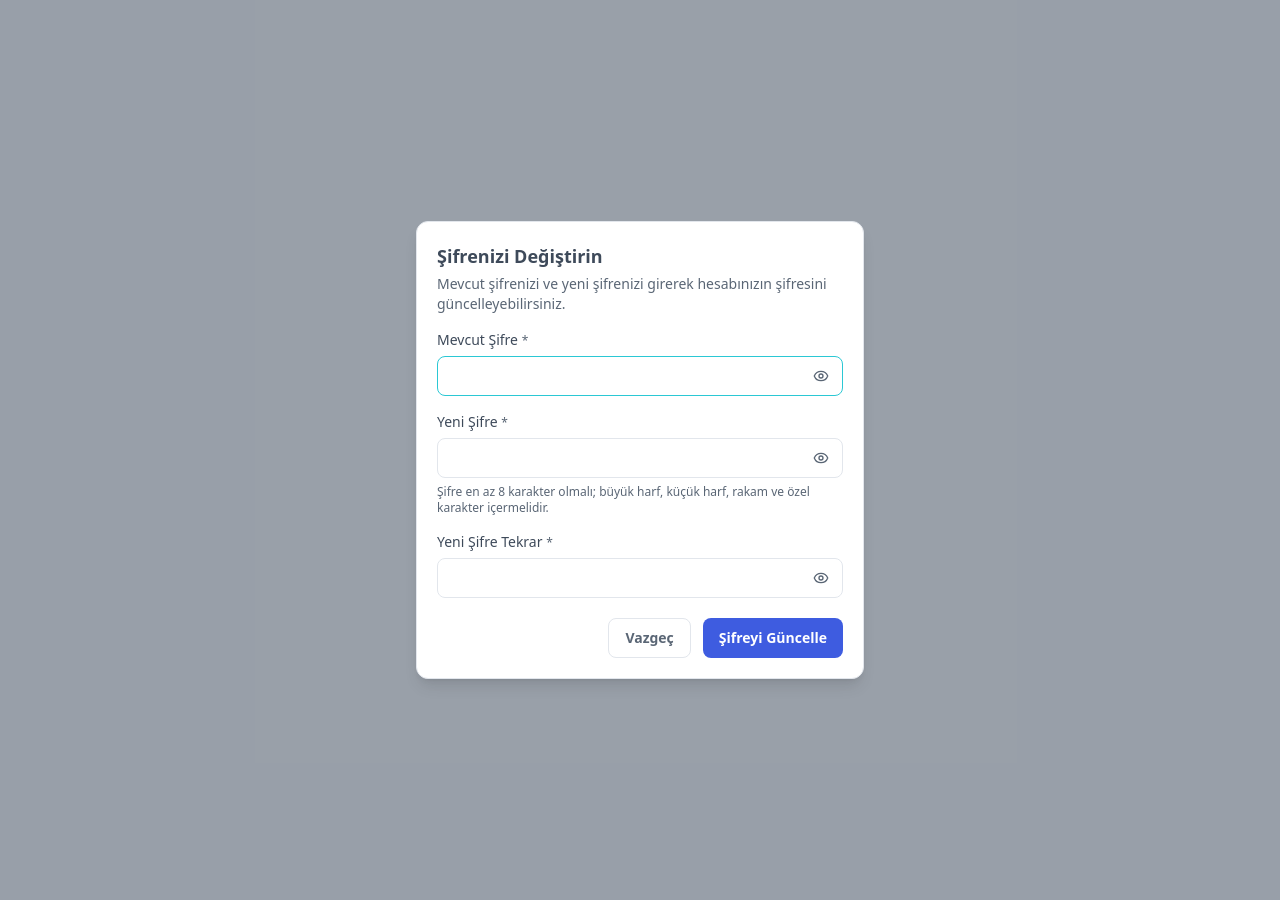
Test: ChangePasswordDialog › sunucu hatasında genel mesaja iner
In the password field labelled "Mevcut Şifre *": (640, 376) [437, 356, 843, 396], type "Eski.Sifre1"
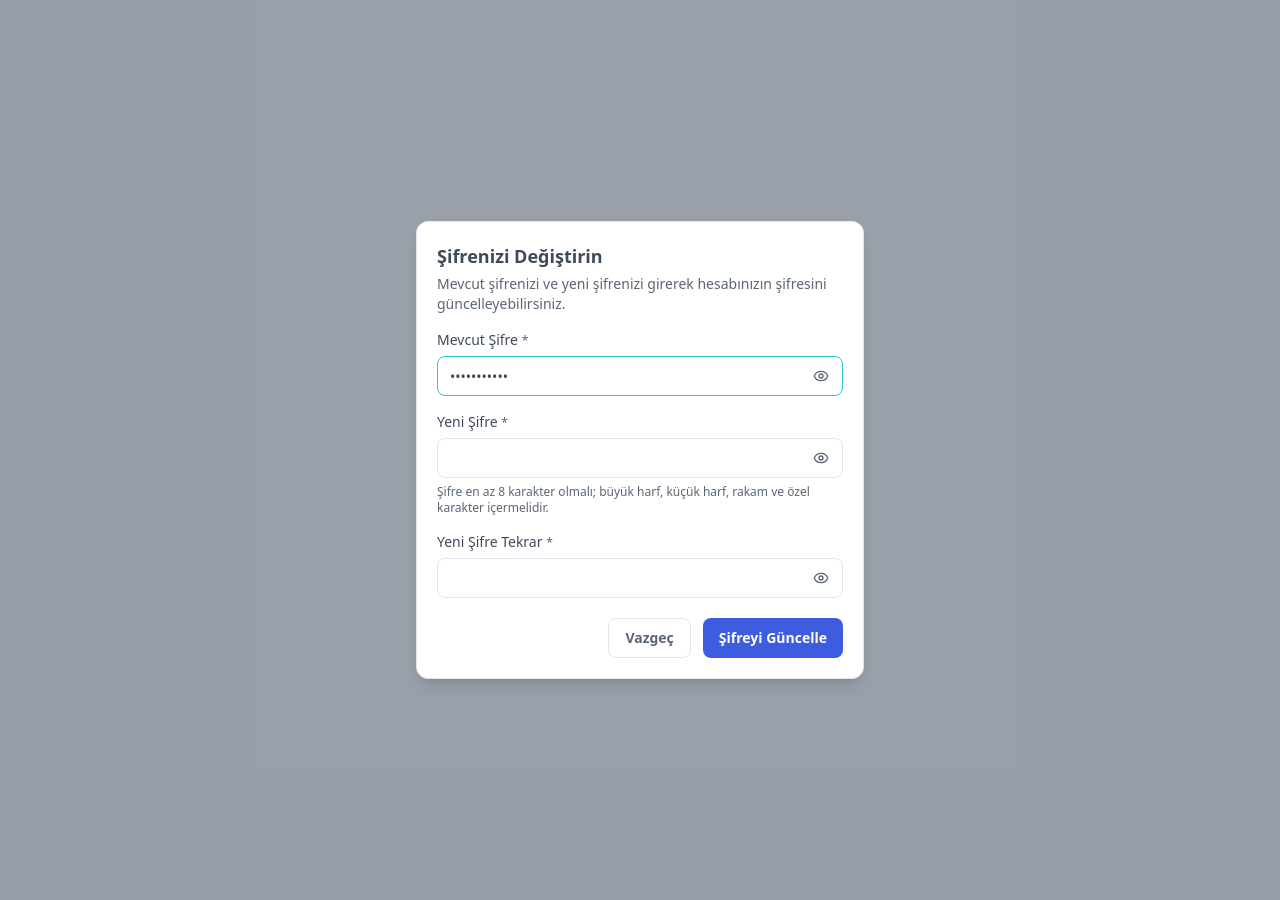
In the password field labelled "Yeni Şifre *": (640, 458) [437, 438, 843, 478], type "Yeni.Sifre1"
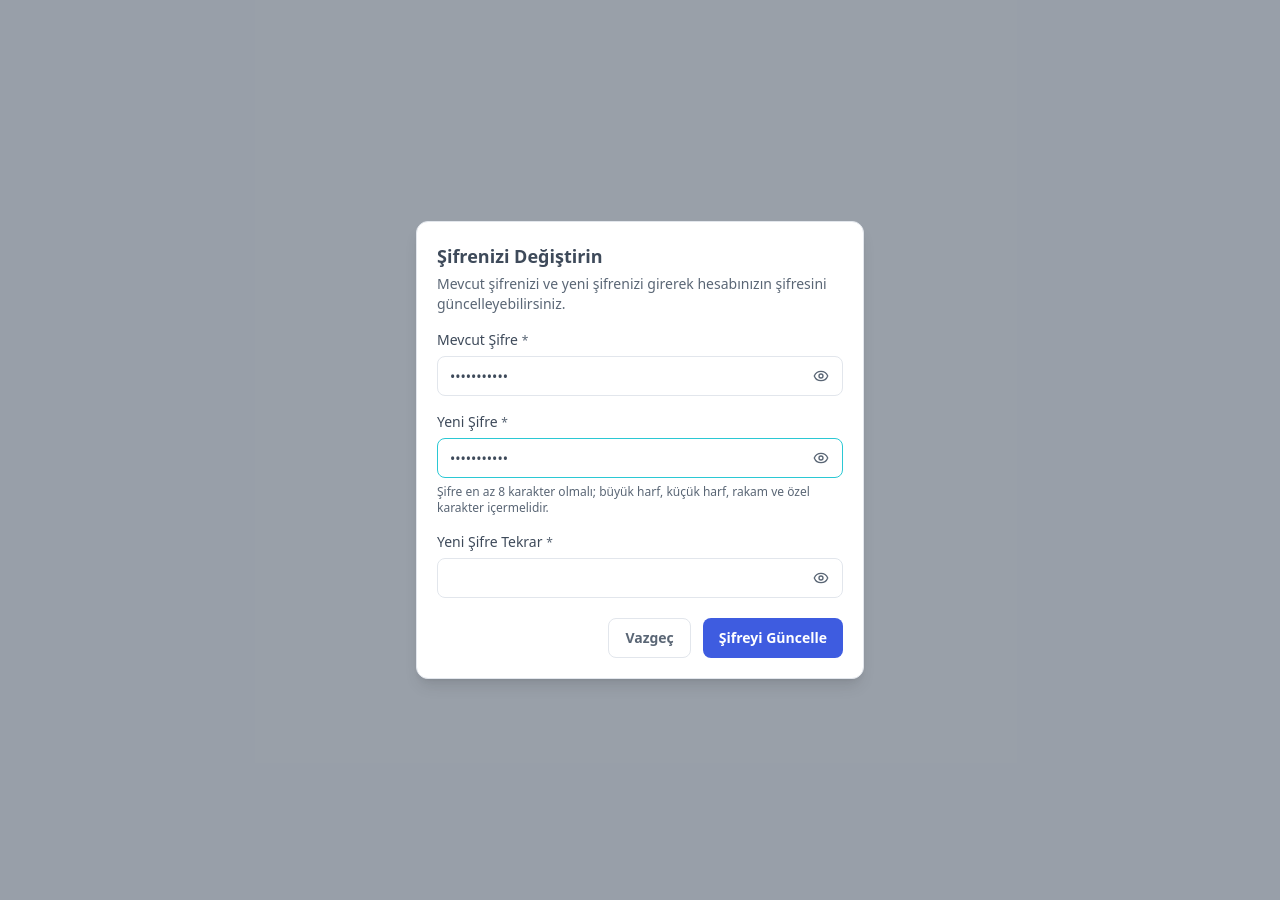
In the password field labelled "Yeni Şifre Tekrar *": (640, 578) [437, 558, 843, 598], type "Yeni.Sifre1"
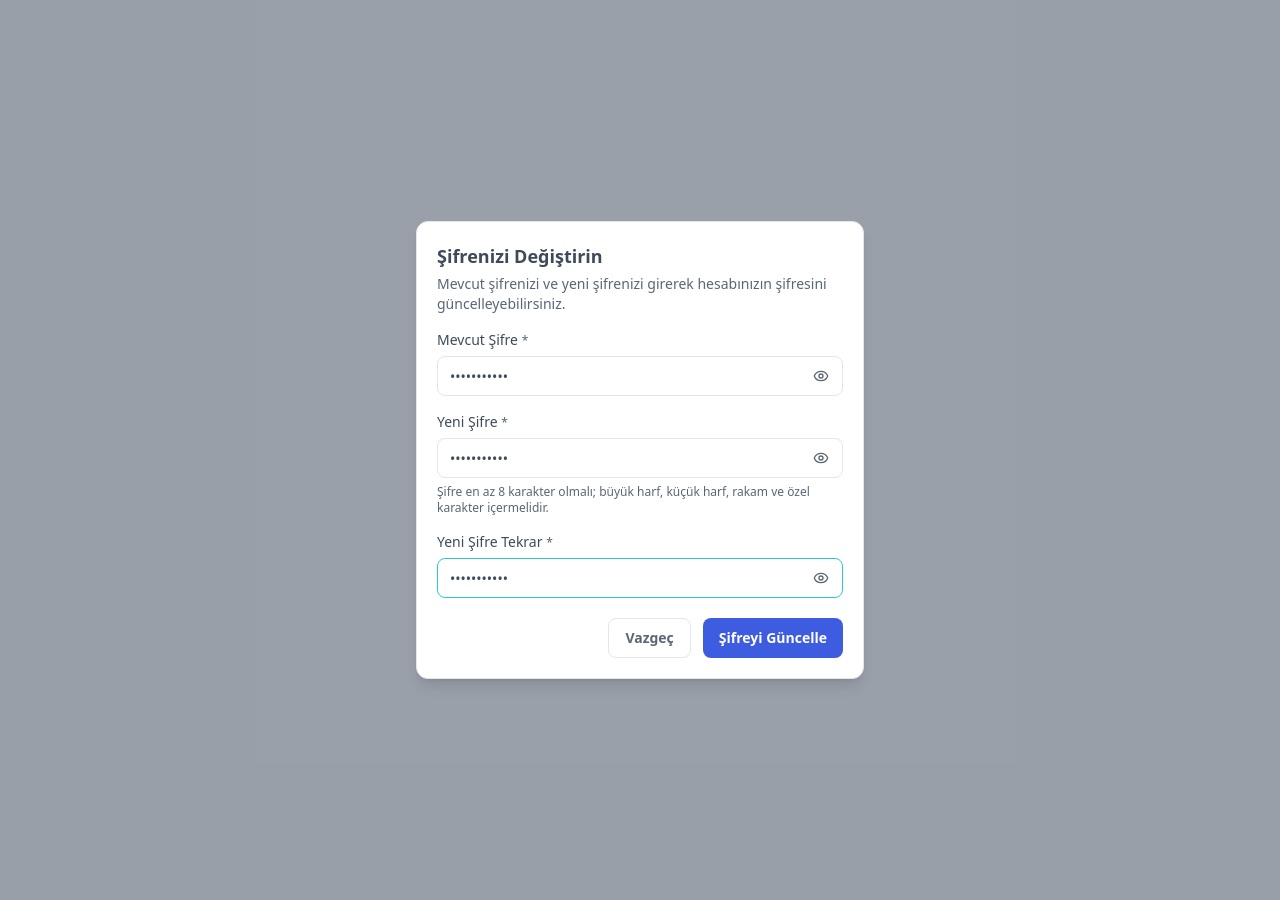
Click the button "Şifreyi Güncelle": (773, 638) [703, 618, 843, 658]
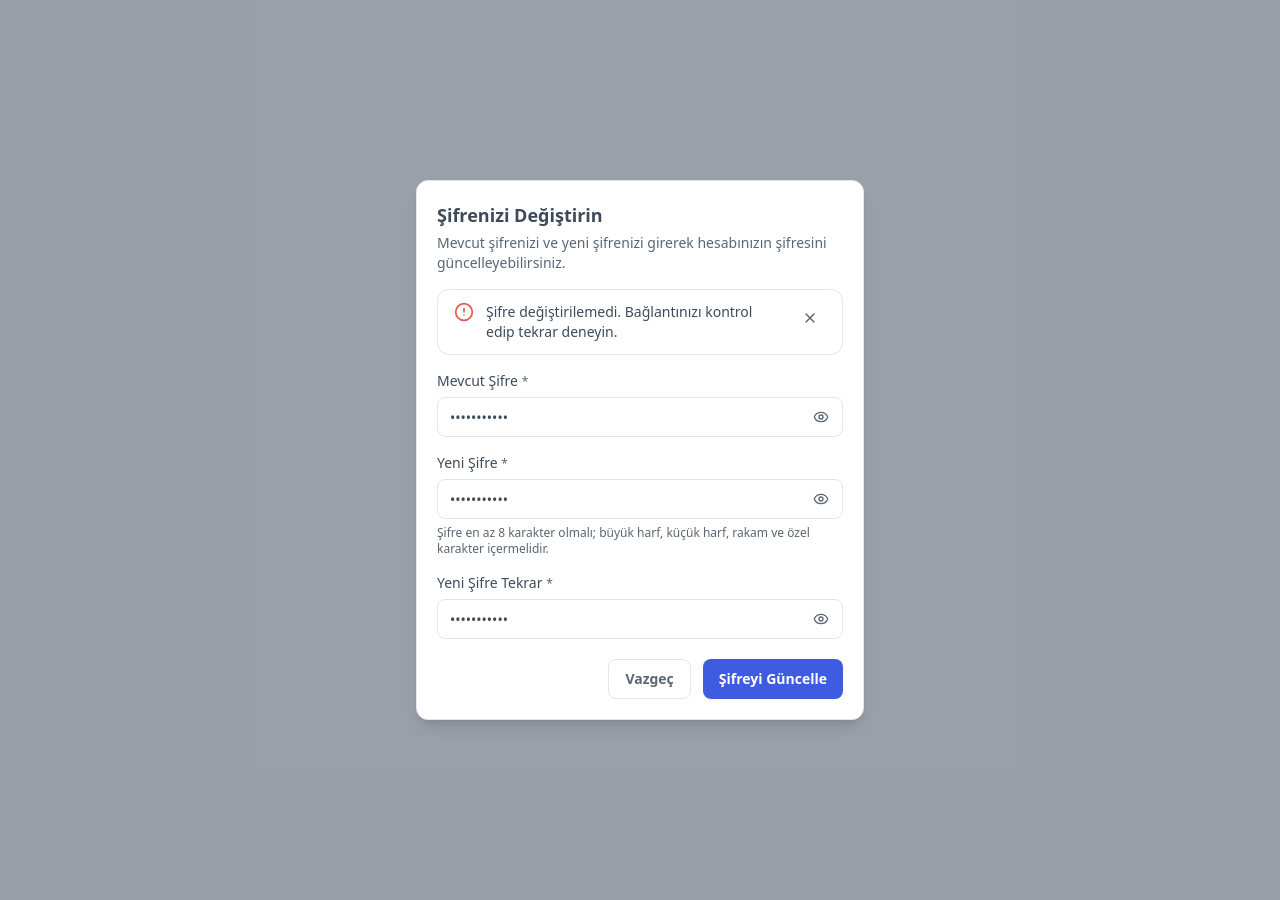
Check: the message shows "Şifre değiştirilemedi", box [486, 302, 752, 341]
